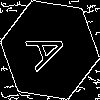A: (25, 25, 77, 73)
